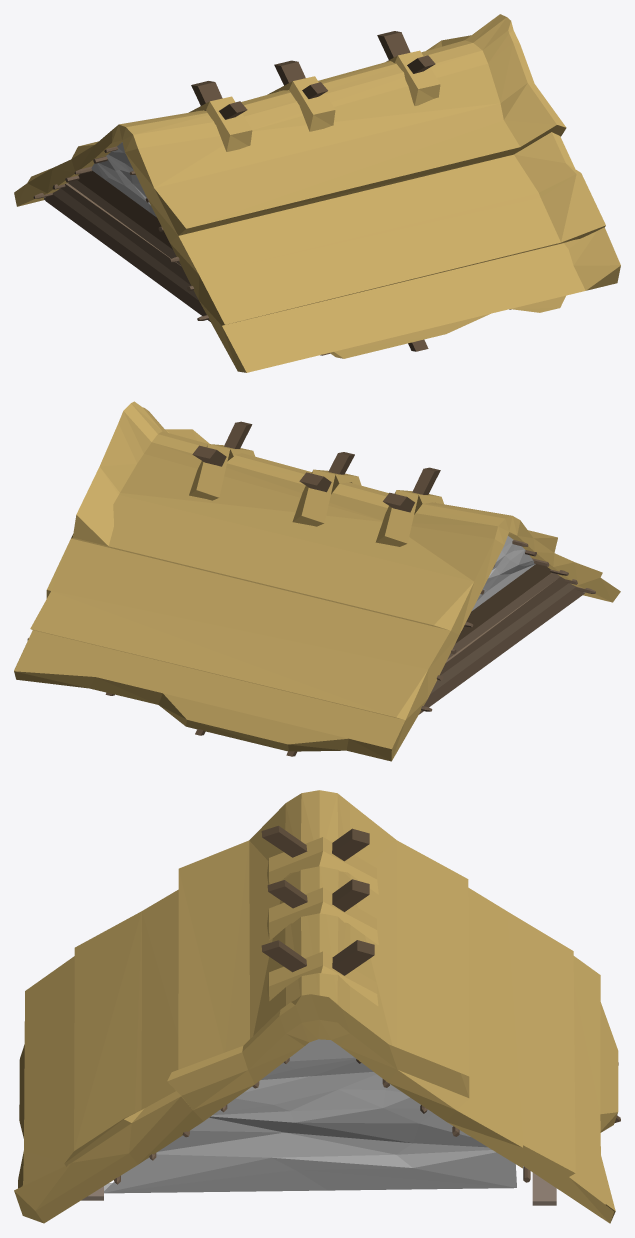
File: EA03_Village_Hut_Roof_Cut_01C.fbx
3 views of the same model, one above another, from view 1: azimuth 30°, elevation 25°; view 2: azimuth 150°, elevation 25°; view 3: azimuth 270°, elevation 25° (orthographic). The views are drawn at different scales.
Parts seen in each view (by area): view 1: EA03_Village_Hut_Roof_Cut_01c_LOD0; view 2: EA03_Village_Hut_Roof_Cut_01c_LOD0; view 3: EA03_Village_Hut_Roof_Cut_01c_LOD0.
Boxes of the visible parts, x1=… form: EA03_Village_Hut_Roof_Cut_01c_LOD0: x1=14, y1=14, x2=620, y2=372; EA03_Village_Hut_Roof_Cut_01c_LOD0: x1=14, y1=401, x2=620, y2=761; EA03_Village_Hut_Roof_Cut_01c_LOD0: x1=14, y1=790, x2=620, y2=1223.
Size of what is drawn, in the model's own units: 10.54 by 5.22 by 11.37.
